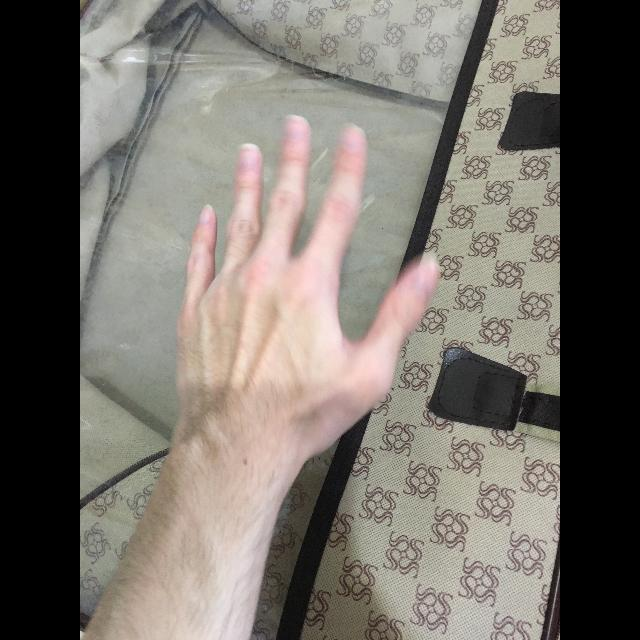bare_hand: (167, 111, 444, 446)
